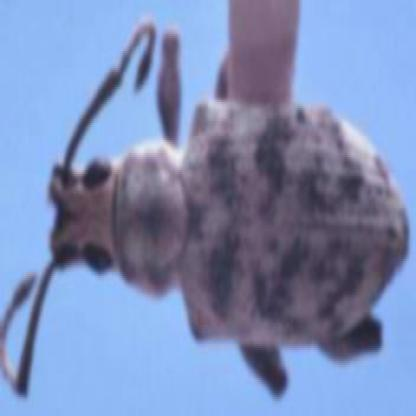ash weevil: (20, 25, 408, 396)
